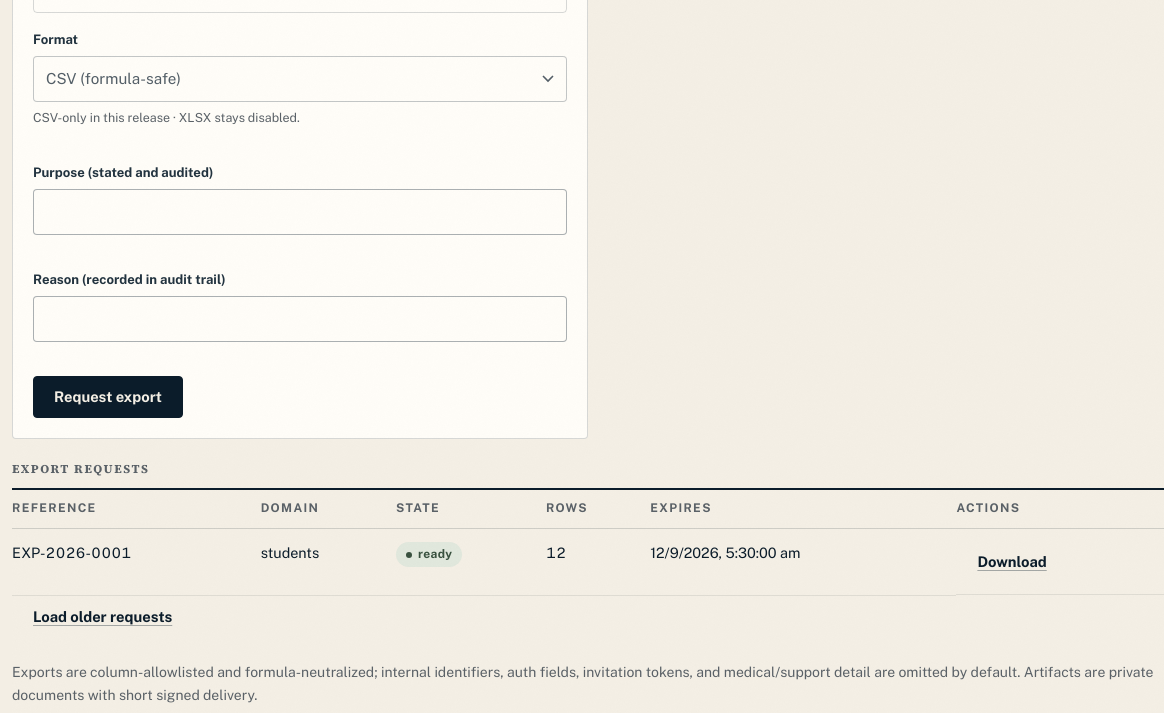
Test: exports workspace › pages the export registry with a keyset cursor instead of loading the whole history
(page scrolled)
Click the button "Load older requests": (103, 617) left=12, top=596, right=193, bottom=638
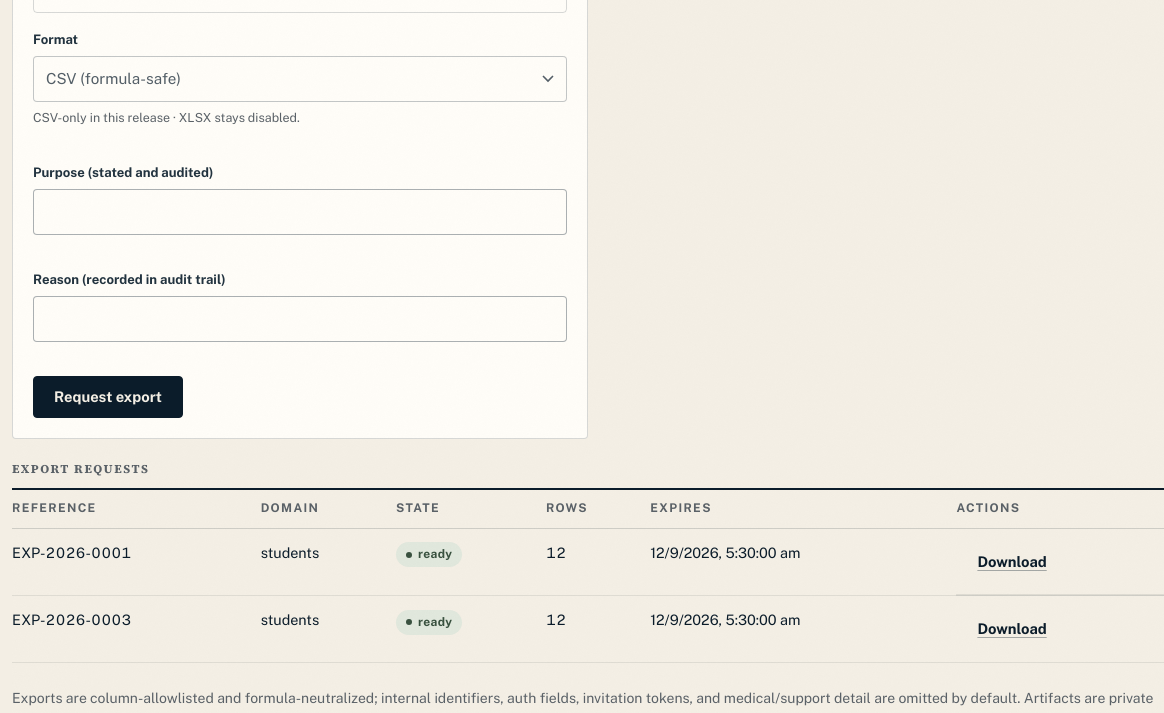
Result: the text "EXP-2026-0003" is shown at left=12, top=596, right=261, bottom=663
Result: the button "Load older requests" is gone
